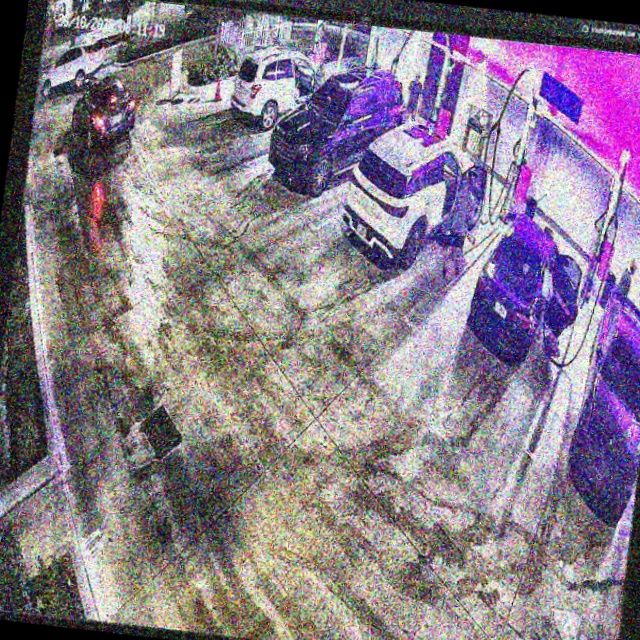Car: (339, 116, 490, 278), (266, 60, 410, 201), (463, 210, 590, 367), (64, 70, 141, 153)
